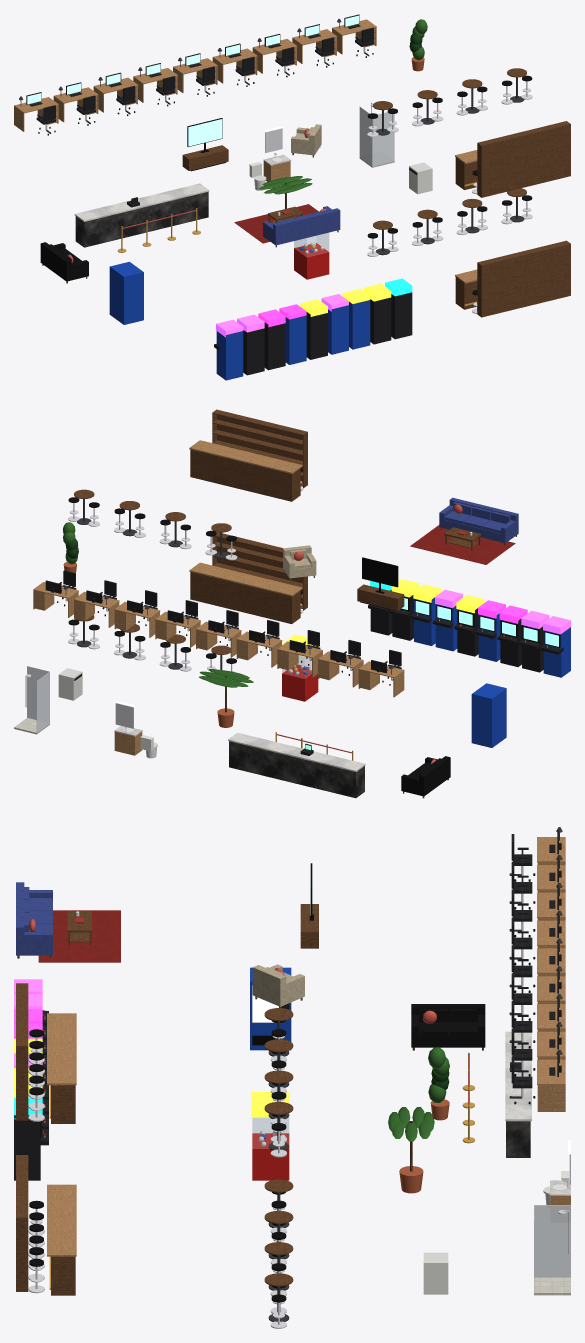
Rendered from i_lucky7_casino.gltf.
3 views of the same model, one above another, from view 1: azimuth 30°, elevation 25°; view 2: azimuth 150°, elevation 25°; view 3: azimuth 270°, elevation 25° (orthographic). The views are drawn at different scales.
Visible parts, largest first — view 1: I_lucky7_casino; view 2: I_lucky7_casino; view 3: I_lucky7_casino.
Part boxes in pixels (x1=…): I_lucky7_casino: x1=14, y1=14, x2=570, y2=380; I_lucky7_casino: x1=14, y1=409, x2=570, y2=798; I_lucky7_casino: x1=14, y1=827, x2=570, y2=1328.
Bounding box in the file's own units: 16.87 × 6.6 × 13.54.
Materials: 38 (11 with a texture image).
